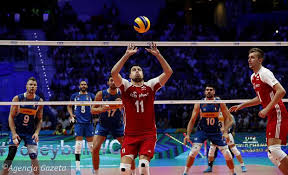ball: (133, 15, 150, 33)
